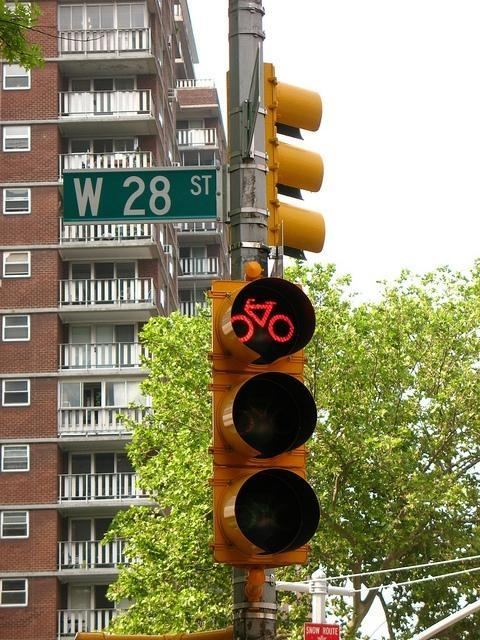bicycle: (231, 299, 294, 342)
